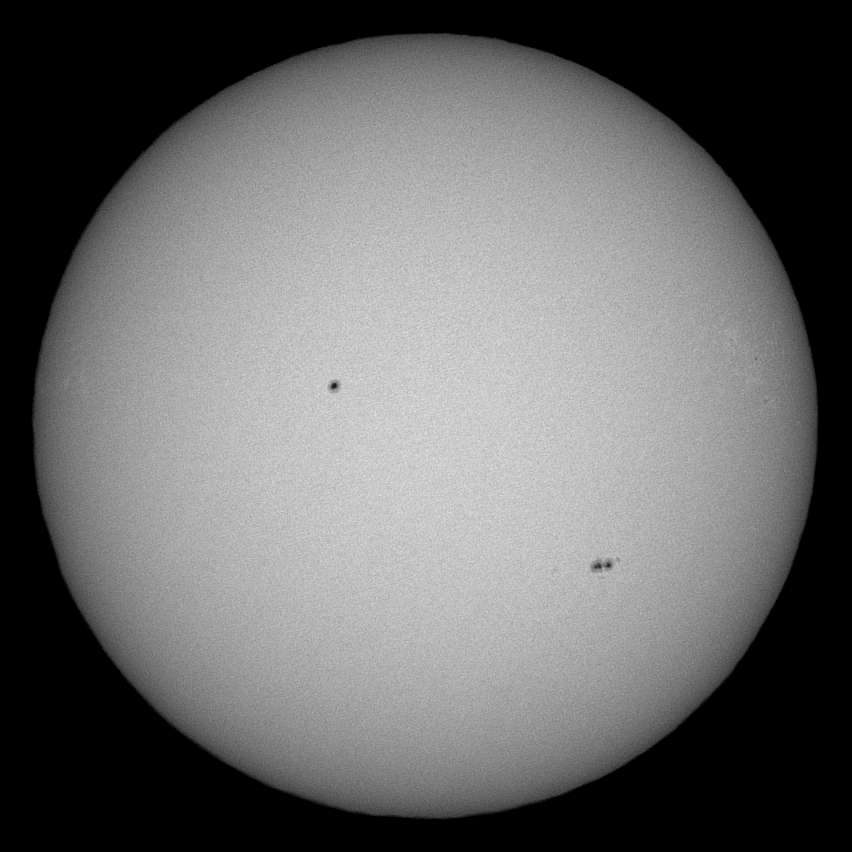sunspot: (587, 553, 619, 579), (323, 376, 344, 393)
